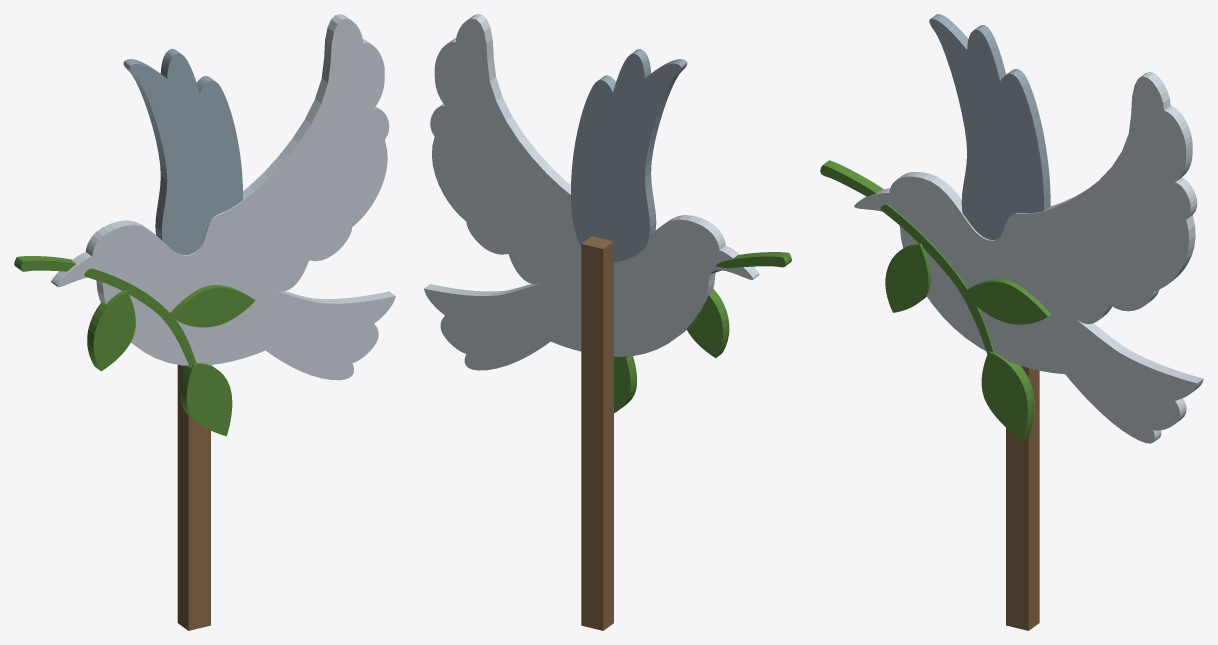
The model's file is colombe.glb.
3 views of the same model, side by side, from view 1: azimuth 30°, elevation 25°; view 2: azimuth 150°, elevation 25°; view 3: azimuth 330°, elevation 25° (orthographic). The views are drawn at different scales.
Size of the model in its own units: 0.9955 by 1.5 by 0.109.
